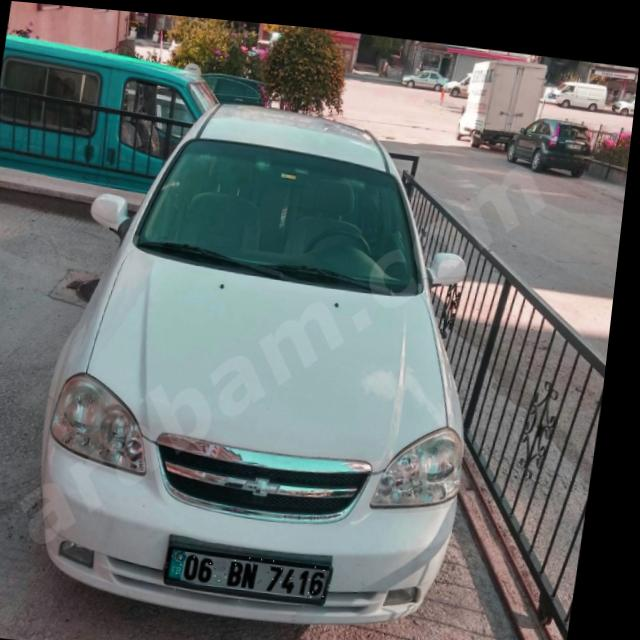license_plate: (176, 541, 342, 592)
